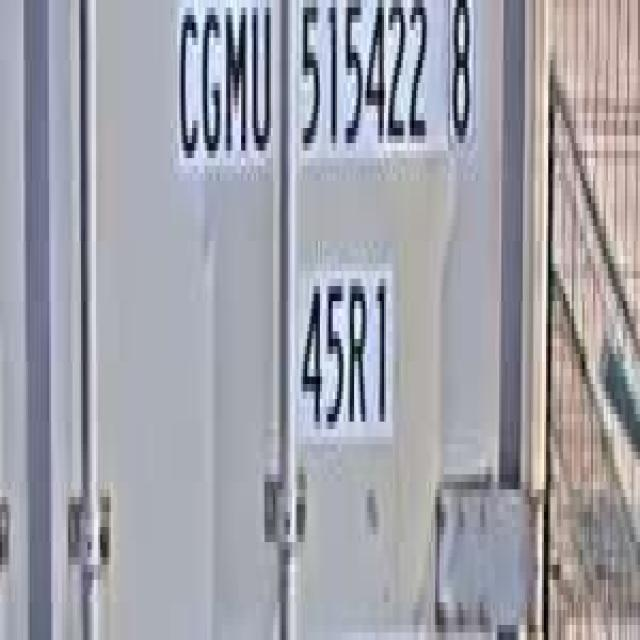dv: (444, 0, 480, 151)
owner: (173, 0, 273, 173)
serial: (296, 0, 431, 173)
size: (294, 241, 392, 444)
